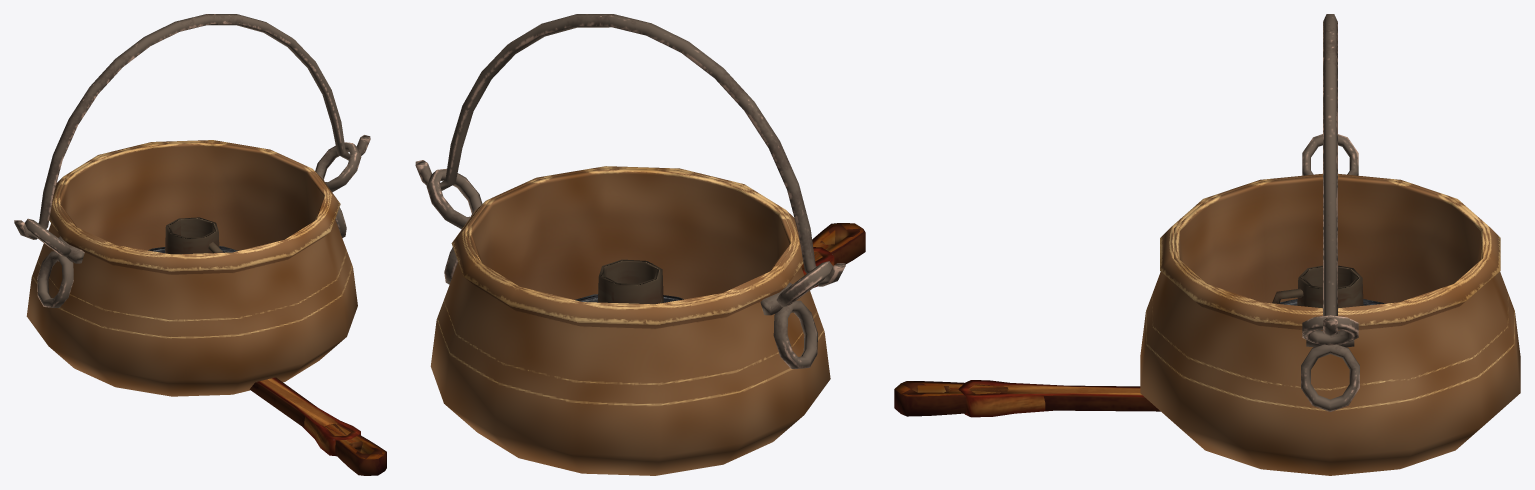
Rendered from SM_Cluster_Kitchen_01.fbx.
The picture shows the model from 3 angles, left to right: view 1: azimuth 30°, elevation 25°; view 2: azimuth 150°, elevation 25°; view 3: azimuth 270°, elevation 25°; orthographic projection. The views are drawn at different scales.
Parts seen in each view (by area): view 1: Pot_Ground, Pot, Wooden_Spoon, Wooden_Spoon2, Cup_w_Handle, Wooden_Spoon3; view 2: Pot_Ground, Pot, Cup_w_Handle, Wooden_Spoon, Wooden_Spoon3; view 3: Pot_Ground, Pot, Wooden_Spoon, Wooden_Spoon2, Cup_w_Handle, Wooden_Spoon3.
Boxes of the visible parts, <box> form: Pot_Ground: <box>26,140,357,396</box>; Pot: <box>14,14,370,262</box>; Wooden_Spoon: <box>249,377,386,475</box>; Wooden_Spoon2: <box>257,378,360,456</box>; Cup_w_Handle: <box>165,217,223,254</box>; Wooden_Spoon3: <box>324,423,385,459</box>; Pot_Ground: <box>430,166,830,475</box>; Pot: <box>415,14,845,313</box>; Cup_w_Handle: <box>598,259,663,304</box>; Wooden_Spoon: <box>801,223,865,267</box>; Wooden_Spoon3: <box>802,223,863,265</box>; Pot_Ground: <box>1140,173,1520,475</box>; Pot: <box>1174,14,1486,345</box>; Wooden_Spoon: <box>894,381,1160,416</box>; Wooden_Spoon2: <box>958,380,1143,417</box>; Cup_w_Handle: <box>1272,265,1363,308</box>; Wooden_Spoon3: <box>895,381,1007,396</box>.
Size of the model in its own units: 84.71 by 75.61 by 110.
